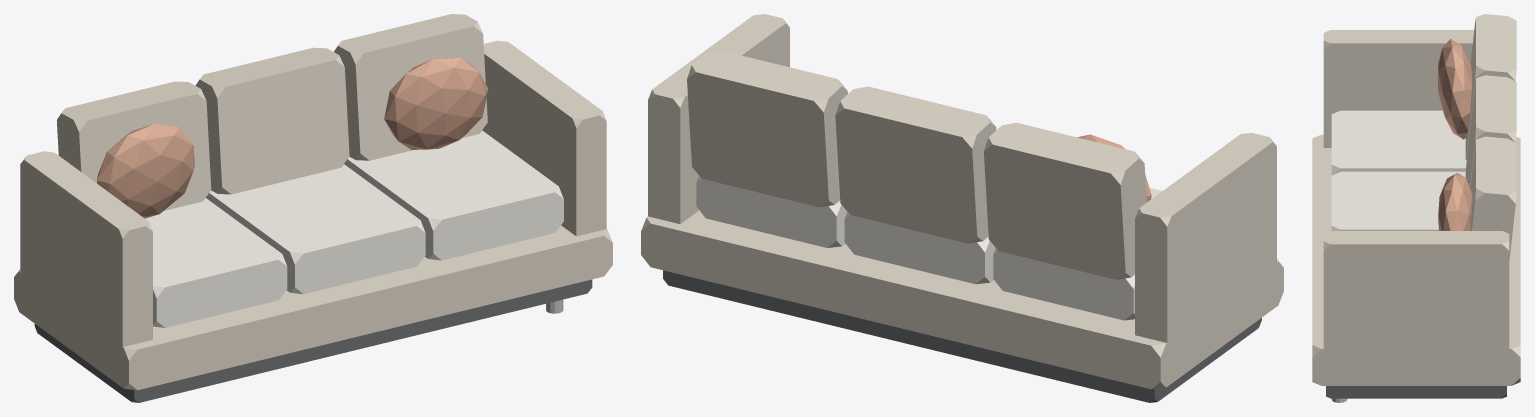
The model's file is sofa_low.glb.
The picture shows the model from 3 angles, left to right: view 1: azimuth 30°, elevation 25°; view 2: azimuth 150°, elevation 25°; view 3: azimuth 270°, elevation 25°; orthographic projection. The views are drawn at different scales.
Parts seen in each view (by area): view 1: FABRIC_MAIN_base, FABRIC_MAIN_arm_L, FABRIC_MAIN_back_1, FABRIC_LIGHT_seat_1, FABRIC_LIGHT_seat_2, FABRIC_MAIN_arm_R, FABRIC_LIGHT_seat_0, FABRIC_MAIN_back_2, FABRIC_MAIN_back_0, FABRIC_ACCENT2_pillow_R, DARK_shadow_plinth, FABRIC_ACCENT_pillow_L; view 2: FABRIC_MAIN_base, FABRIC_MAIN_arm_L, FABRIC_MAIN_back_0, FABRIC_MAIN_back_1, FABRIC_MAIN_back_2, FABRIC_MAIN_arm_R, DARK_shadow_plinth, FABRIC_LIGHT_seat_1, FABRIC_LIGHT_seat_2, FABRIC_LIGHT_seat_0; view 3: FABRIC_MAIN_arm_R, FABRIC_MAIN_base, FABRIC_MAIN_arm_L, FABRIC_LIGHT_seat_0, FABRIC_LIGHT_seat_1, FABRIC_MAIN_back_2, FABRIC_MAIN_back_1, FABRIC_MAIN_back_0, FABRIC_ACCENT_pillow_L, DARK_shadow_plinth, FABRIC_ACCENT2_pillow_R.
Part boxes in pixels (x1,y1,x2,y2): FABRIC_MAIN_base: (14,225,612,390); FABRIC_MAIN_arm_L: (20,151,152,364); FABRIC_MAIN_back_1: (195,47,349,194); FABRIC_LIGHT_seat_1: (206,164,425,294); FABRIC_LIGHT_seat_2: (344,130,563,260); FABRIC_MAIN_arm_R: (482,40,606,236); FABRIC_LIGHT_seat_0: (145,198,287,327); FABRIC_MAIN_back_2: (334,14,487,160); FABRIC_MAIN_back_0: (57,81,211,210); FABRIC_ACCENT2_pillow_R: (384,58,487,149); DARK_shadow_plinth: (34,279,592,402); FABRIC_ACCENT_pillow_L: (97,124,194,218); FABRIC_MAIN_base: (641,210,1283,389); FABRIC_MAIN_arm_L: (1135,133,1276,342); FABRIC_MAIN_back_0: (984,122,1146,279); FABRIC_MAIN_back_1: (835,86,996,243); FABRIC_MAIN_back_2: (687,50,847,207); FABRIC_MAIN_arm_R: (648,14,789,223); DARK_shadow_plinth: (663,270,1261,402); FABRIC_LIGHT_seat_1: (844,212,995,284); FABRIC_LIGHT_seat_2: (696,175,847,247); FABRIC_LIGHT_seat_0: (993,188,1162,320); FABRIC_MAIN_arm_R: (1323,231,1509,367); FABRIC_MAIN_base: (1312,134,1520,385); FABRIC_MAIN_arm_L: (1323,30,1474,147); FABRIC_LIGHT_seat_0: (1331,110,1466,175); FABRIC_LIGHT_seat_1: (1331,171,1465,230); FABRIC_MAIN_back_2: (1470,136,1516,260); FABRIC_MAIN_back_1: (1465,75,1516,186); FABRIC_MAIN_back_0: (1465,14,1516,159); FABRIC_ACCENT_pillow_L: (1438,38,1472,139); DARK_shadow_plinth: (1326,386,1506,398); FABRIC_ACCENT2_pillow_R: (1438,173,1472,230).
Size of the model in its own units: 2.24 by 1.02 by 0.92.
